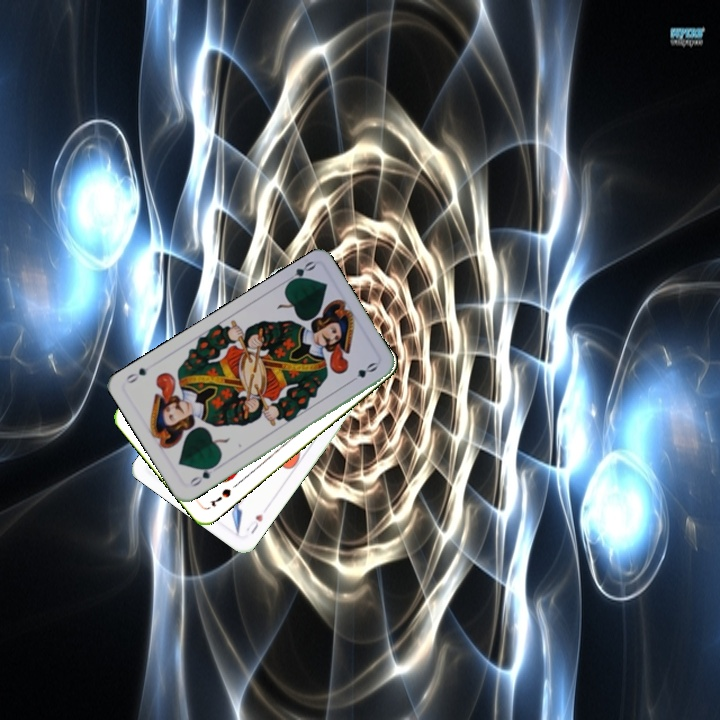GO: (280, 257, 318, 288), (185, 460, 220, 489)
HU: (242, 509, 266, 537)
S7: (206, 484, 234, 509)
